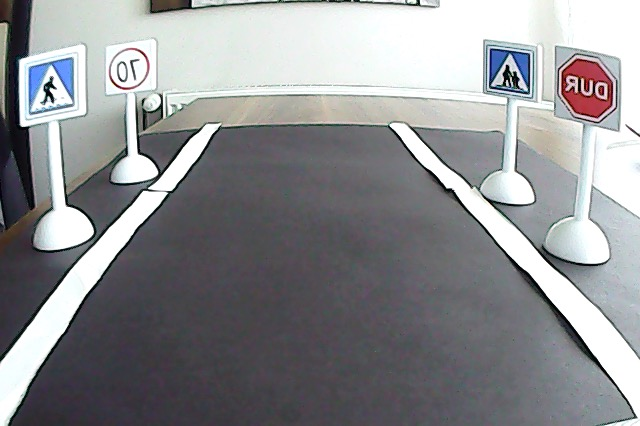pedestrian crossing: (558, 49, 618, 123)
school crossing: (106, 49, 154, 94)
speed limit 70: (487, 45, 535, 93)
stop sign: (20, 53, 87, 124)
